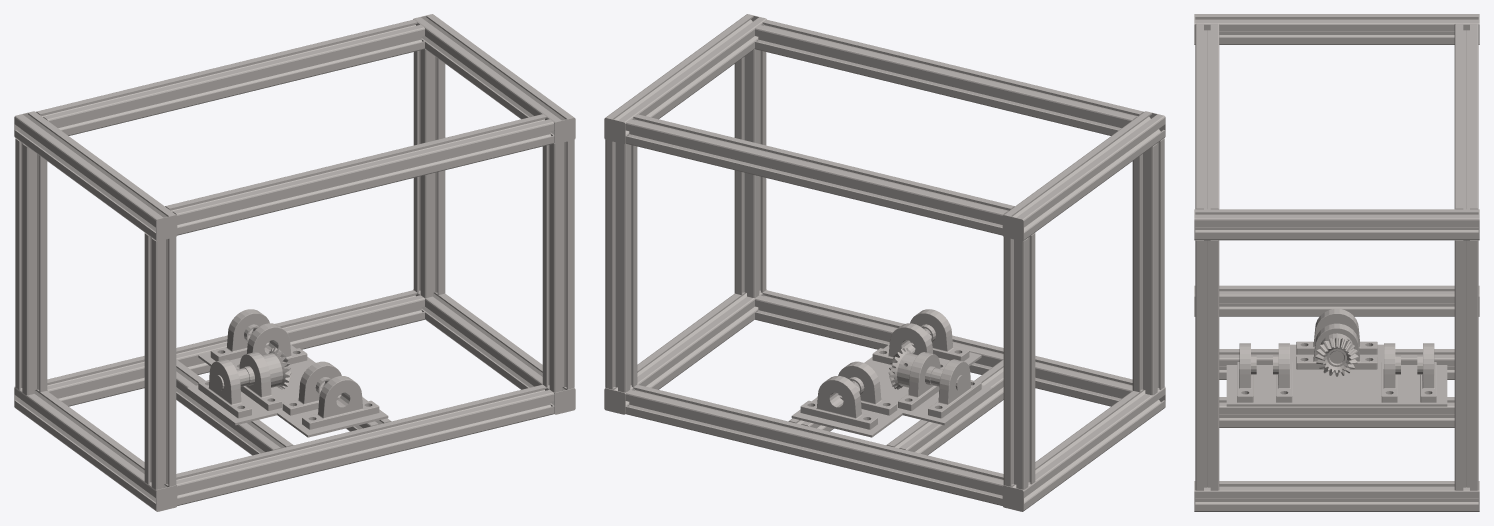
The picture shows the model from 3 angles, left to right: view 1: azimuth 30°, elevation 25°; view 2: azimuth 150°, elevation 25°; view 3: azimuth 270°, elevation 25°; orthographic projection.
Visible parts, largest first — view 1: Base_Link; view 2: Base_Link; view 3: Base_Link.
Part boxes in pixels (x1=…): Base_Link: x1=14, y1=14, x2=575, y2=511; Base_Link: x1=604, y1=14, x2=1165, y2=511; Base_Link: x1=1194, y1=14, x2=1479, y2=511.
Size of the model in its own units: 0.6 by 0.352 by 0.4.
1 material, 1 textured.
